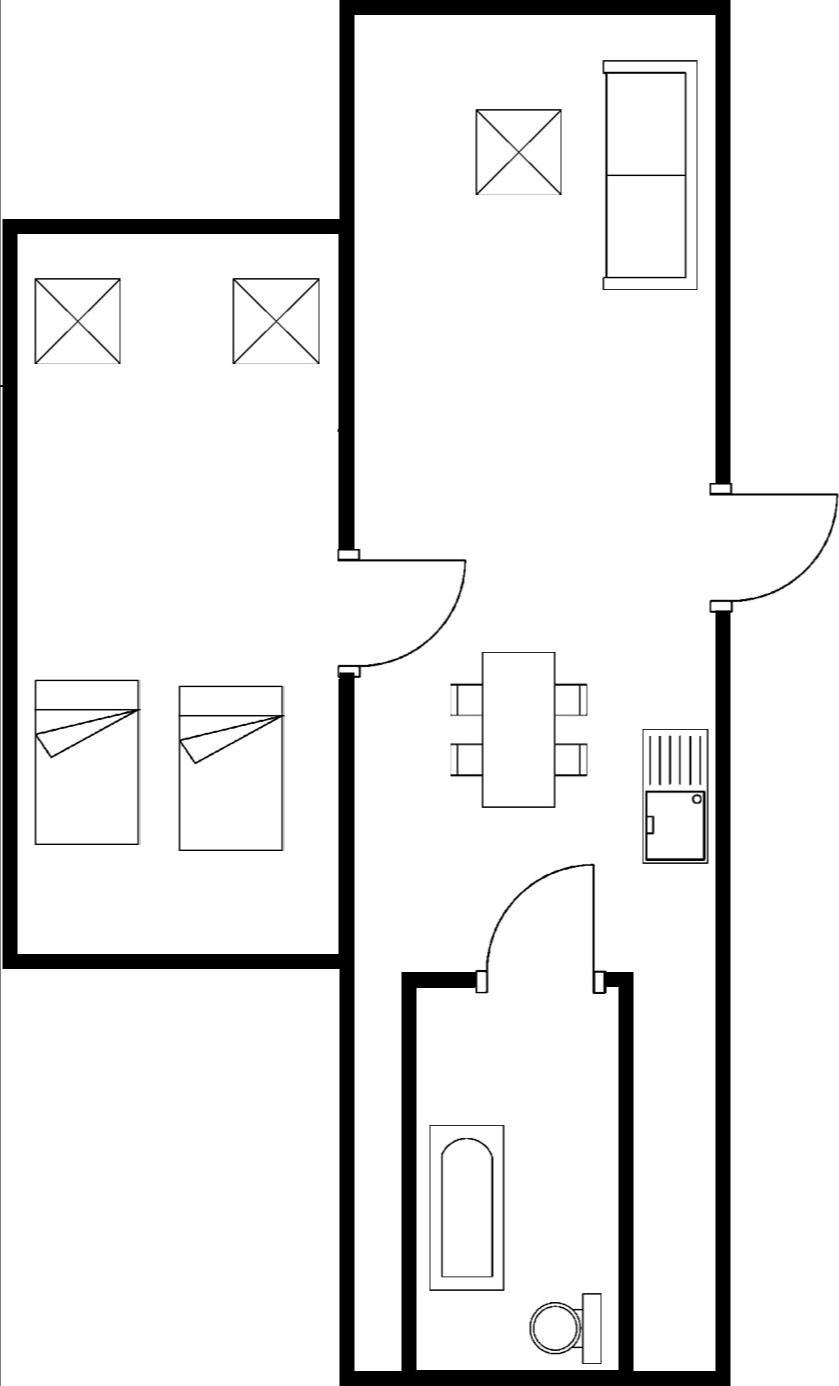bed: (169, 674, 294, 859), (27, 671, 149, 855)
dining_table: (445, 644, 594, 818)
sink: (633, 718, 717, 872)
sofa: (596, 49, 706, 299)
toilet: (526, 1286, 611, 1367)
tub: (421, 1116, 514, 1301)
